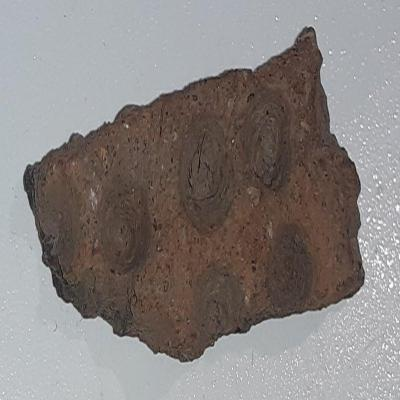archeology: (24, 27, 366, 364)
